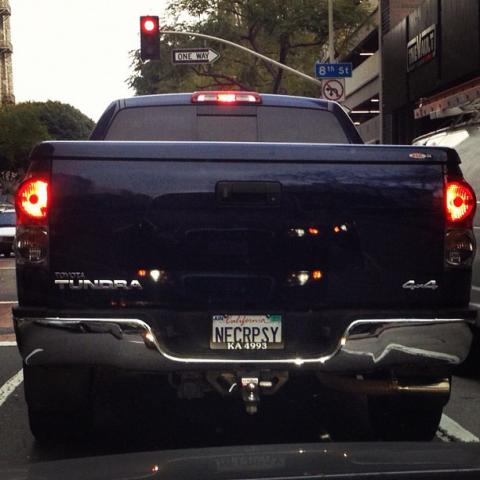car: (9, 97, 479, 446)
truck: (13, 91, 478, 440)
